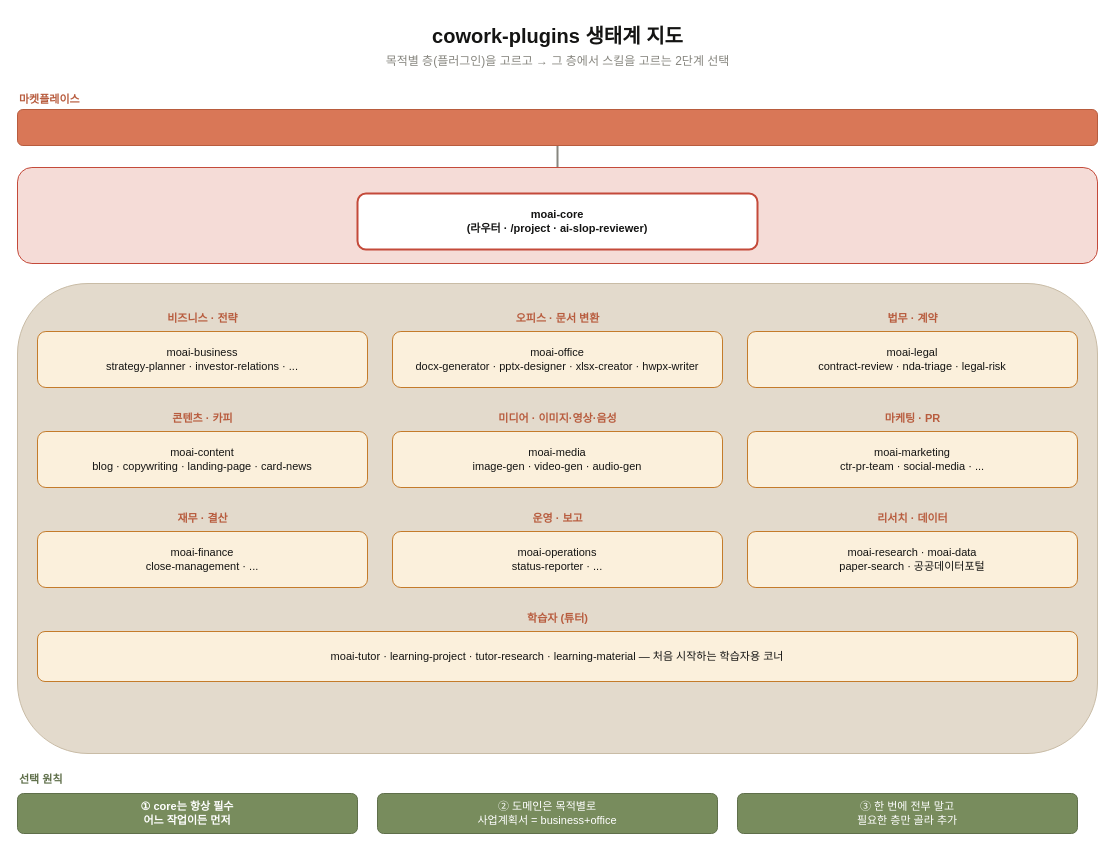
Some shapes in this 1115 by 851 pixel diagram are drawn without their labels. The shapes that lost their labels are listed below. From the top down, each one's box as (x1, y1, x2, y2) in pixels, then its label:
(16, 108, 1098, 146): modu-ai/cowork-plugins · 21개 플러그인 · 107개 스킬
(16, 166, 1098, 264): ① 기본 조리도구 (필수 · 가장 먼저)
(16, 282, 1098, 754): ② 도메인 코너 (목적별로 한 층씩 선택)
